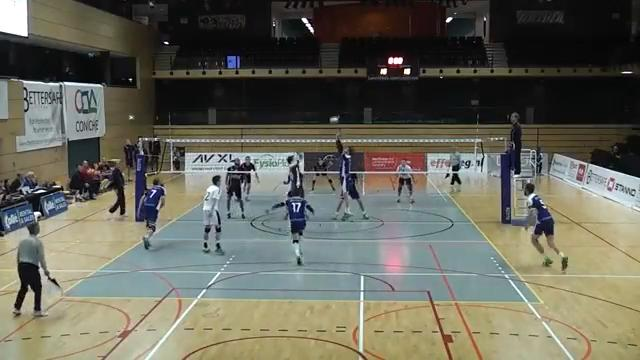alzata: (330, 130, 356, 227)
